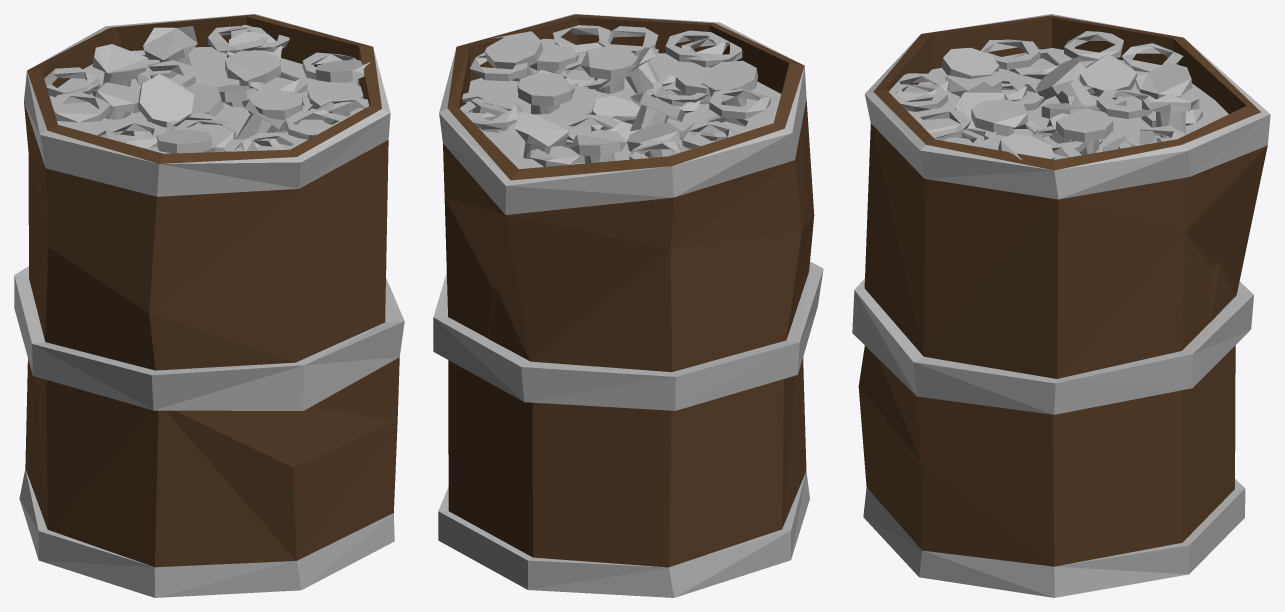
The model's file is BarrelUnited.fbx.
3 renders of one model, left to right at view 1: azimuth 30°, elevation 25°; view 2: azimuth 150°, elevation 25°; view 3: azimuth 270°, elevation 25°, orthographic.
Parts seen in each view (by area): view 1: Cylinder, Cylinder.010, Cylinder.017; view 2: Cylinder, Cylinder.010, Cylinder.017; view 3: Cylinder, Cylinder.010, Cylinder.017.
Part boxes in pixels (<box>): Cylinder: <box>14,14,404,597</box>; Cylinder.010: <box>44,25,370,153</box>; Cylinder.017: <box>49,47,364,153</box>; Cylinder: <box>433,14,823,597</box>; Cylinder.010: <box>460,25,770,166</box>; Cylinder.017: <box>466,52,781,168</box>; Cylinder: <box>852,14,1270,597</box>; Cylinder.010: <box>888,31,1202,160</box>; Cylinder.017: <box>907,48,1228,159</box>.
Size of the model in its own units: 250 by 306 by 263.
